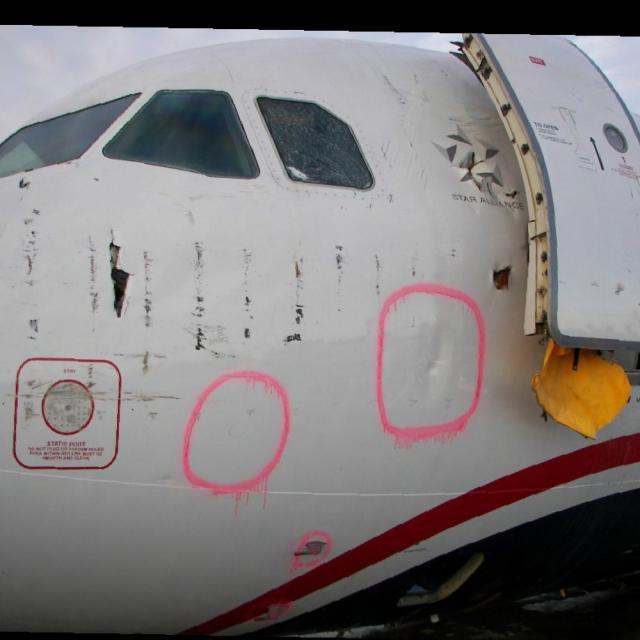crack: (101, 230, 138, 331), (488, 259, 518, 301)
dent: (412, 327, 460, 382)
